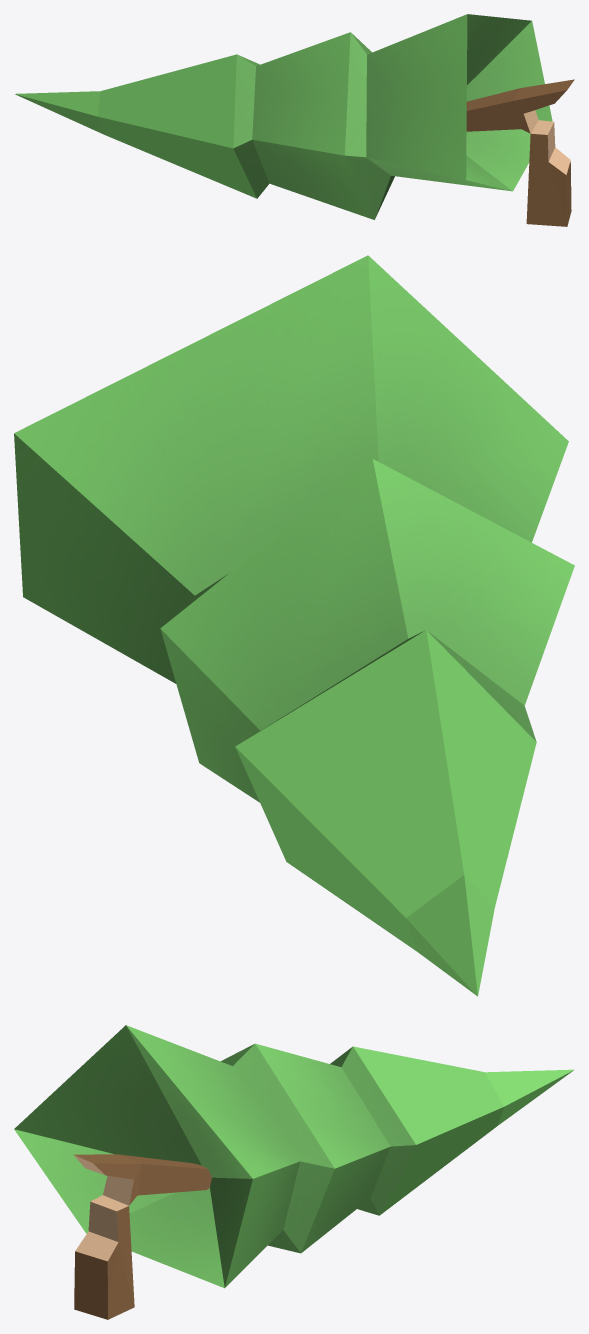
The model's file is Fir_Tree_crk_s_01_LOD.fbx.
3 renders of one model, top to bottom at view 1: azimuth 30°, elevation 25°; view 2: azimuth 150°, elevation 25°; view 3: azimuth 270°, elevation 25°, orthographic. The views are drawn at different scales.
Visible parts, largest first — view 1: Fir_Tree_crk_s_01_LOD0; view 2: Fir_Tree_crk_s_01_LOD0; view 3: Fir_Tree_crk_s_01_LOD0.
Part boxes in pixels (x1,y1,x2,y2): Fir_Tree_crk_s_01_LOD0: (15, 14, 574, 226); Fir_Tree_crk_s_01_LOD0: (14, 255, 574, 996); Fir_Tree_crk_s_01_LOD0: (14, 1025, 574, 1319).
Size of what is drawn, in the model's own units: 181 by 96.7 by 203.
